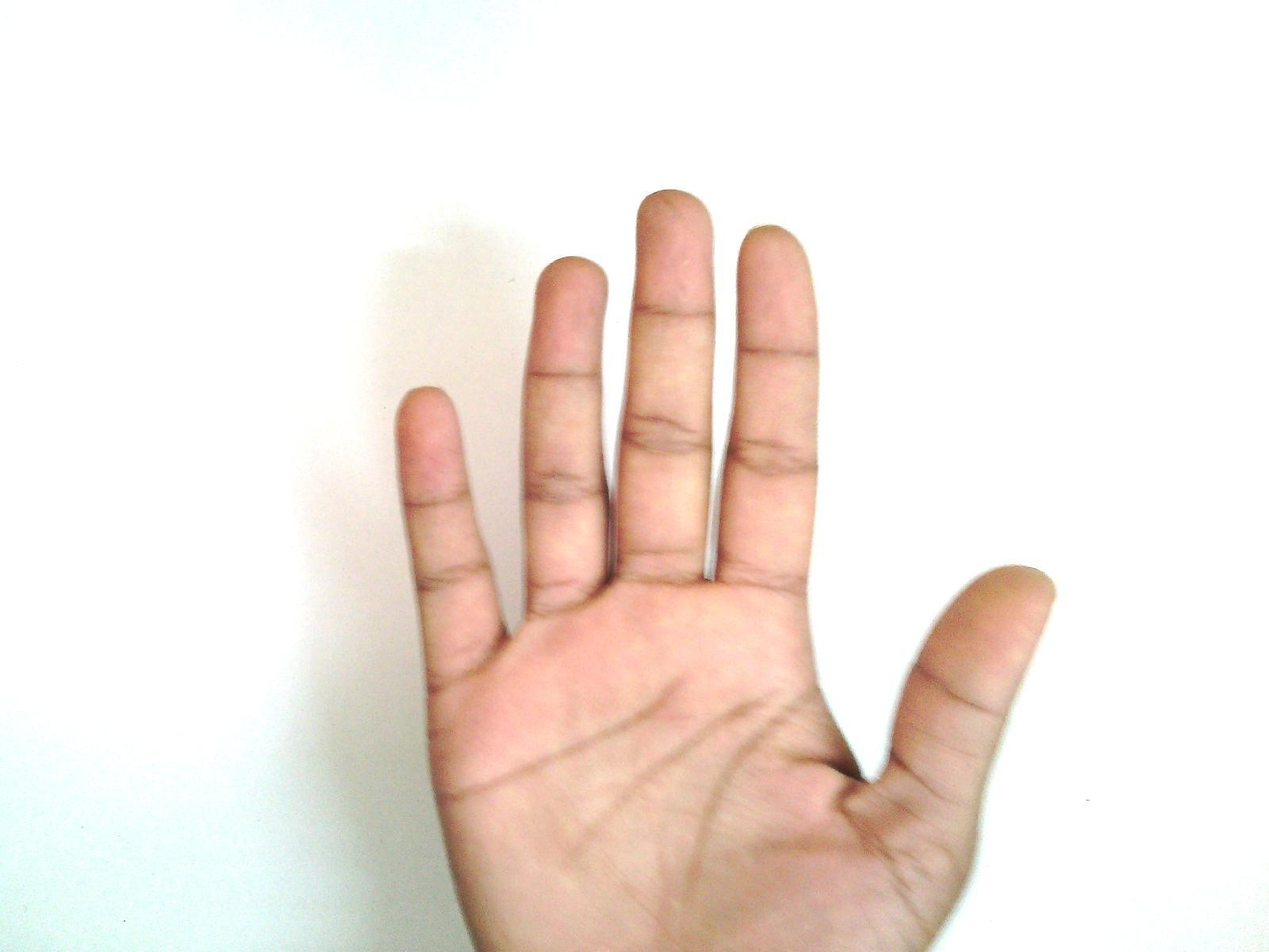open_palm: (389, 187, 1059, 951)
